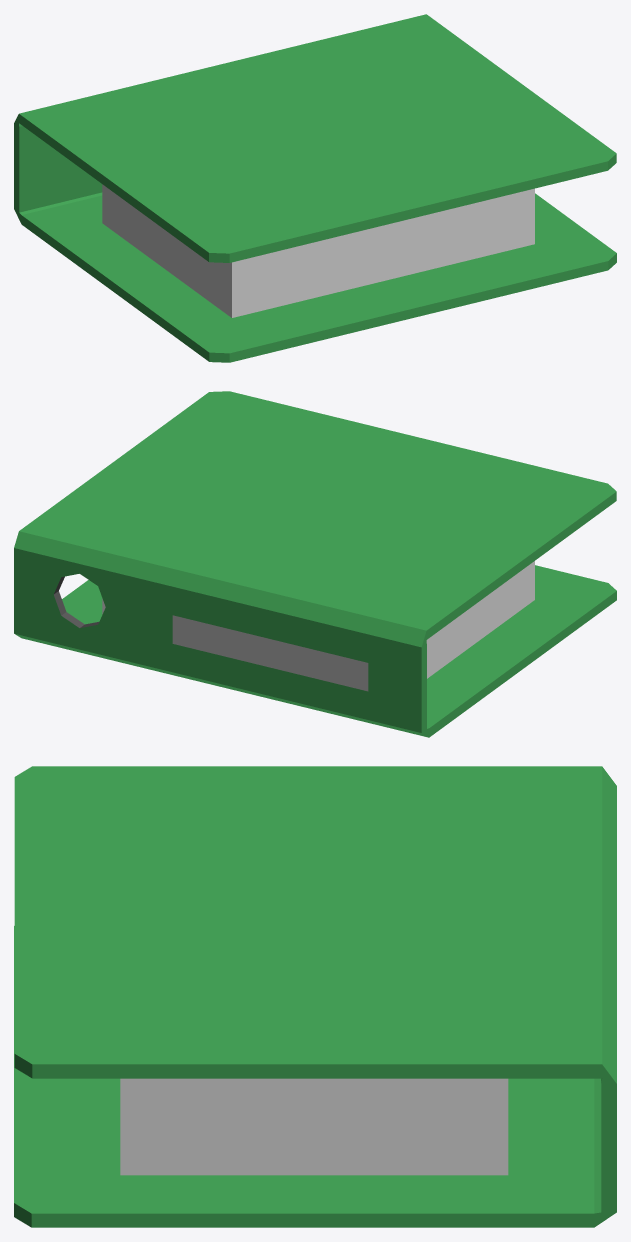
File: Mappe_Grøn.fbx
3 views of the same model, one above another, from view 1: azimuth 30°, elevation 25°; view 2: azimuth 150°, elevation 25°; view 3: azimuth 270°, elevation 25° (orthographic). The views are drawn at different scales.
Visible parts, largest first — view 1: Mappe, Mappestak; view 2: Mappe, Mappestak; view 3: Mappe, Mappestak.
Part boxes in pixels (x1,y1,x2,y2): Mappe: (14, 14, 616, 362); Mappestak: (102, 184, 534, 317); Mappe: (14, 391, 616, 737); Mappestak: (102, 561, 534, 678); Mappe: (14, 766, 616, 1227); Mappestak: (120, 1078, 508, 1175).
Size of the model in its own units: 141 by 35.95 by 120.
